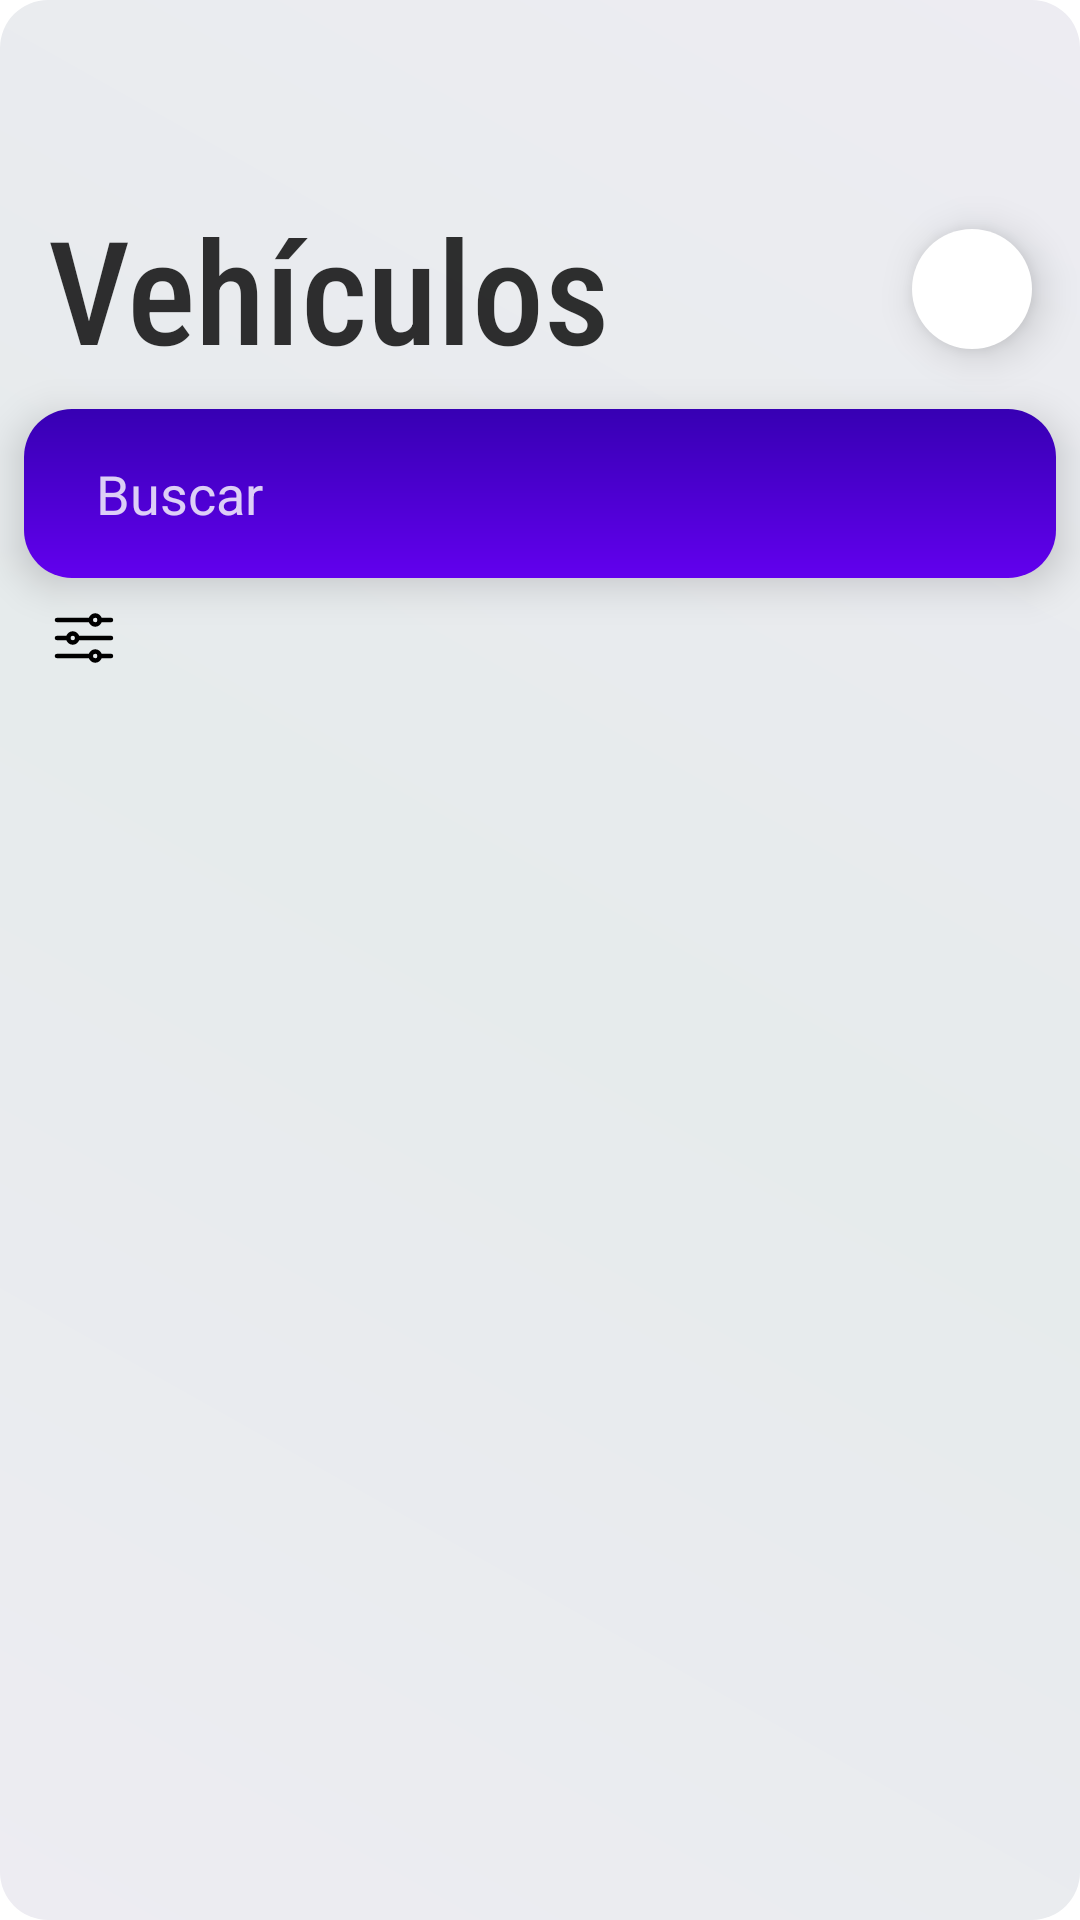

Named icons in this screenshot (1080px×1920px) and their centers, point (x, y):
options: point (83, 638)
